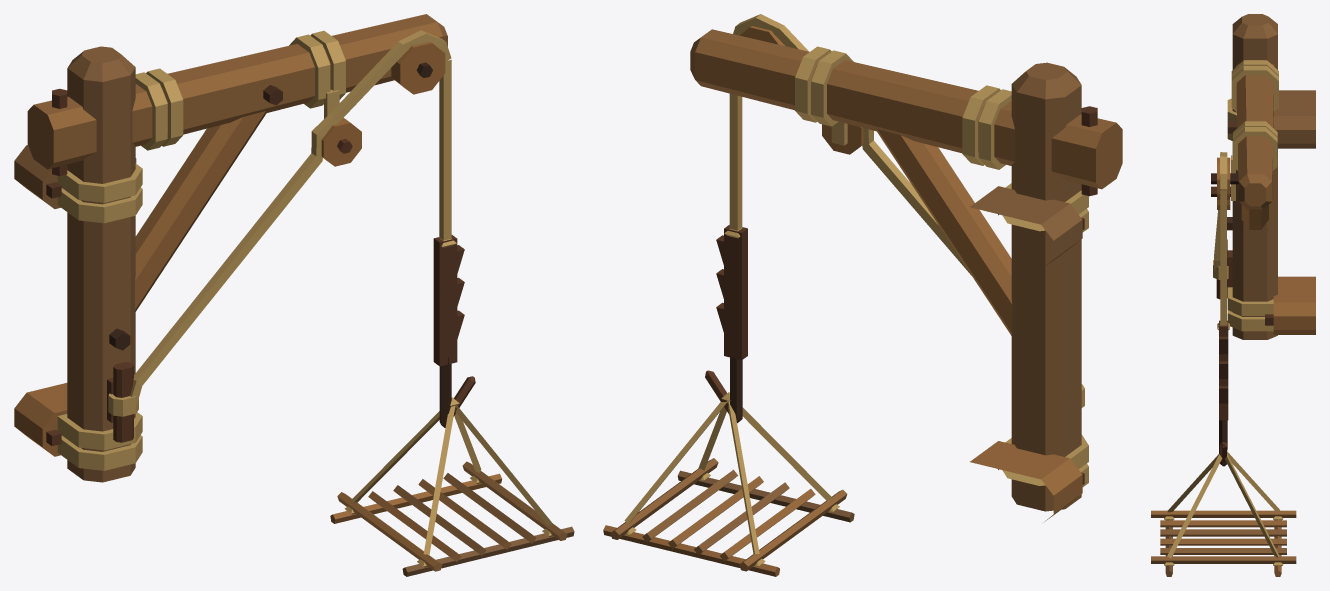
Rendered from adjustable-hearth-cooking-lift-bc42d1.glb.
The picture shows the model from 3 angles, left to right: view 1: azimuth 30°, elevation 25°; view 2: azimuth 150°, elevation 25°; view 3: azimuth 270°, elevation 25°; orthographic projection. The views are drawn at different scales.
Visible parts, largest first — view 1: arm-frame, carrier-mesh, wall-fittings, rope-drop; view 2: arm-frame, carrier-mesh, wall-fittings, rope-drop; view 3: arm-frame, carrier-mesh, wall-fittings, rope-drop.
Boxes of the visible parts, left/top/right/bottom form: arm-frame: left=27, top=14, right=451, bottom=482; carrier-mesh: left=330, top=357, right=574, bottom=576; wall-fittings: left=14, top=144, right=142, bottom=470; rope-drop: left=433, top=59, right=464, bottom=366; arm-frame: left=690, top=14, right=1122, bottom=511; carrier-mesh: left=603, top=357, right=854, bottom=576; wall-fittings: left=970, top=183, right=1088, bottom=521; rope-drop: left=716, top=93, right=747, bottom=360; arm-frame: left=1211, top=14, right=1278, bottom=339; carrier-mesh: left=1151, top=420, right=1296, bottom=576; wall-fittings: left=1227, top=90, right=1315, bottom=334; rope-drop: left=1217, top=190, right=1229, bottom=420.
Bounding box in the file's own units: 1.36 × 1.48 × 0.545.
